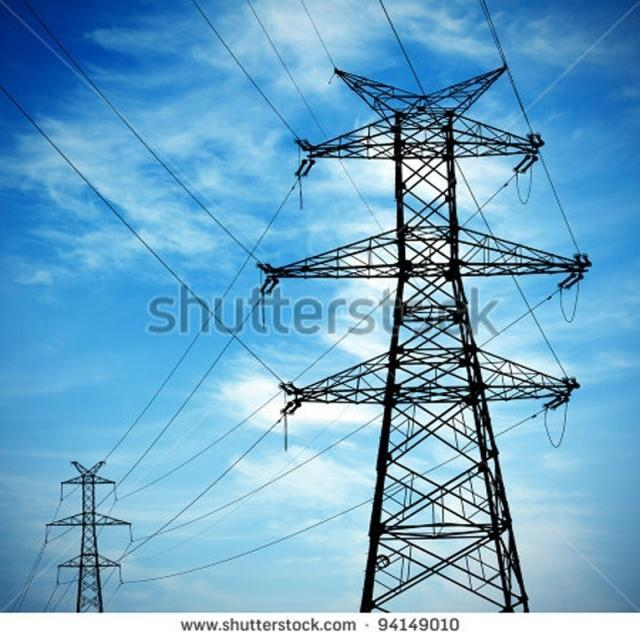non-critical vegetation: (272, 49, 583, 612), (46, 452, 132, 614)
